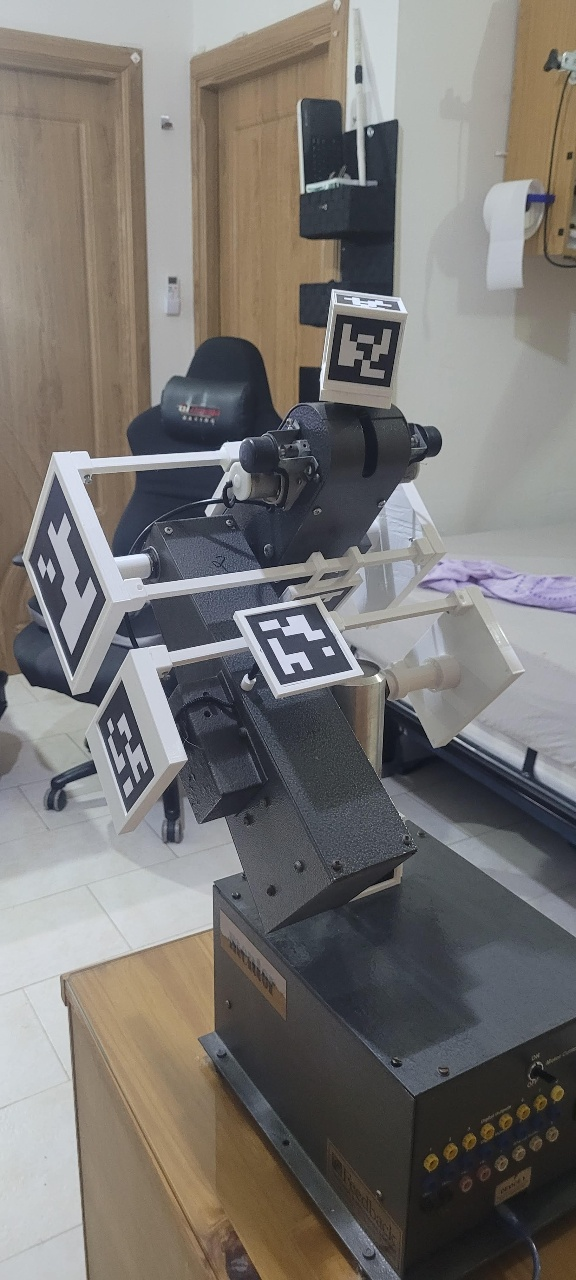Robot: (96, 446, 503, 1016)
